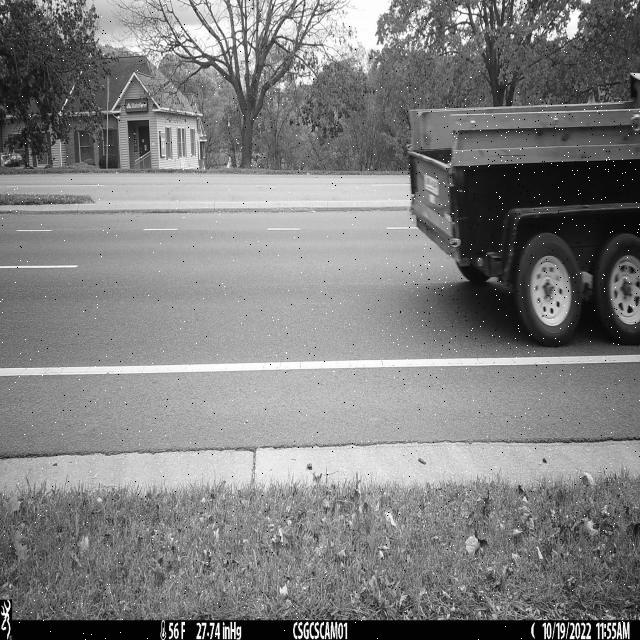Box Truck: (406, 98, 640, 350)
